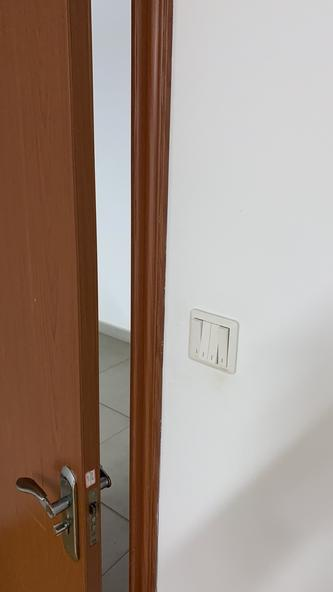switch: (200, 321, 203, 362), (211, 327, 214, 365), (225, 332, 227, 366), (191, 319, 192, 355)
